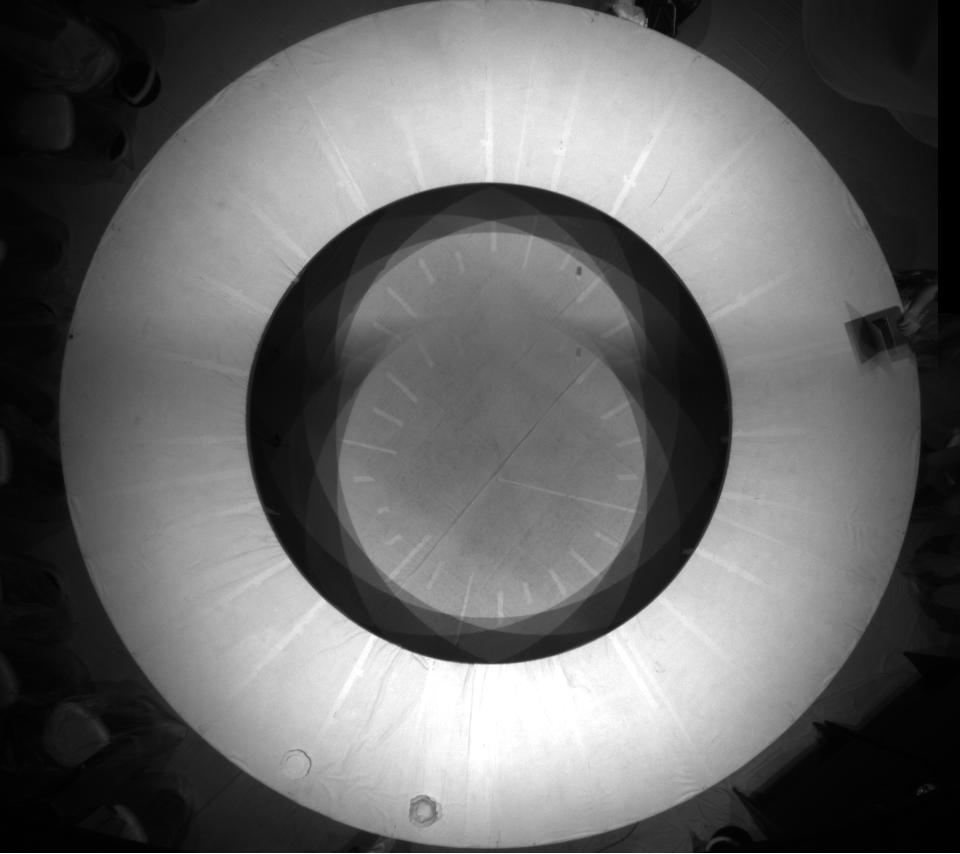Plate: (275, 744, 315, 781)
